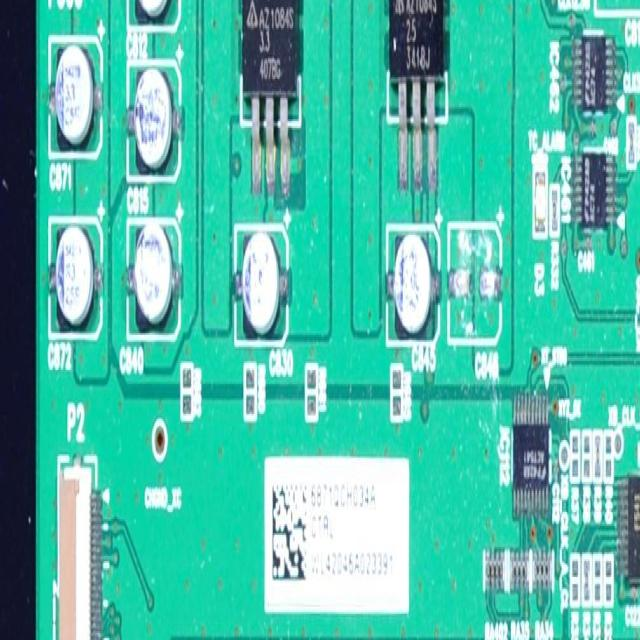IC: (240, 0, 304, 191), (386, 0, 450, 189), (514, 389, 549, 514), (574, 37, 616, 112), (572, 160, 615, 232), (618, 479, 640, 580)
capacitor: (450, 230, 500, 340), (237, 232, 282, 344), (55, 44, 94, 149), (395, 231, 431, 340), (57, 226, 92, 333), (136, 70, 172, 174), (136, 224, 170, 333), (130, 0, 173, 23)
connector: (56, 459, 104, 640)
resistor: (532, 552, 552, 588), (486, 552, 504, 590), (510, 552, 530, 586), (180, 365, 193, 416), (391, 366, 403, 419), (244, 364, 256, 416), (306, 366, 318, 418), (570, 431, 580, 481), (582, 558, 592, 608), (550, 188, 560, 235), (592, 433, 602, 479), (627, 118, 636, 168), (582, 432, 591, 482), (604, 433, 613, 482), (571, 558, 580, 606), (594, 556, 602, 606), (604, 558, 612, 605)
